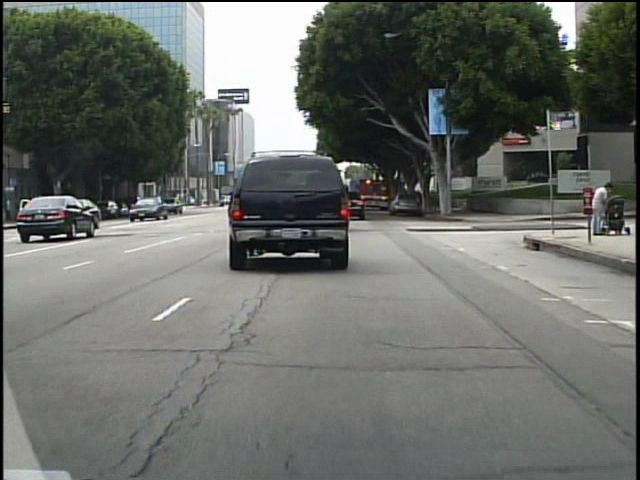person: (587, 179, 612, 234)
